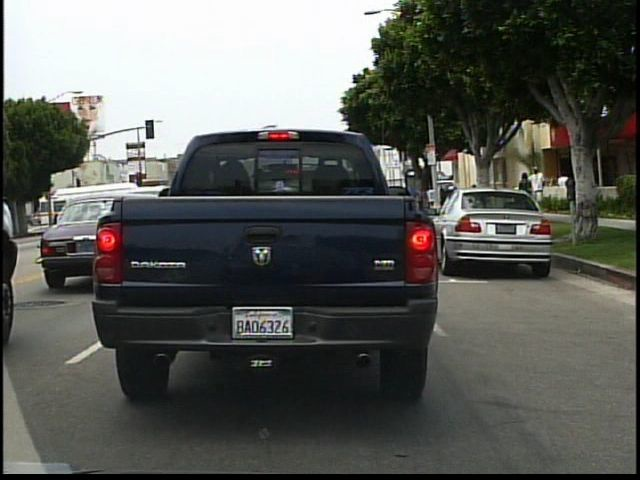person: (554, 167, 575, 214), (474, 176, 492, 219)
